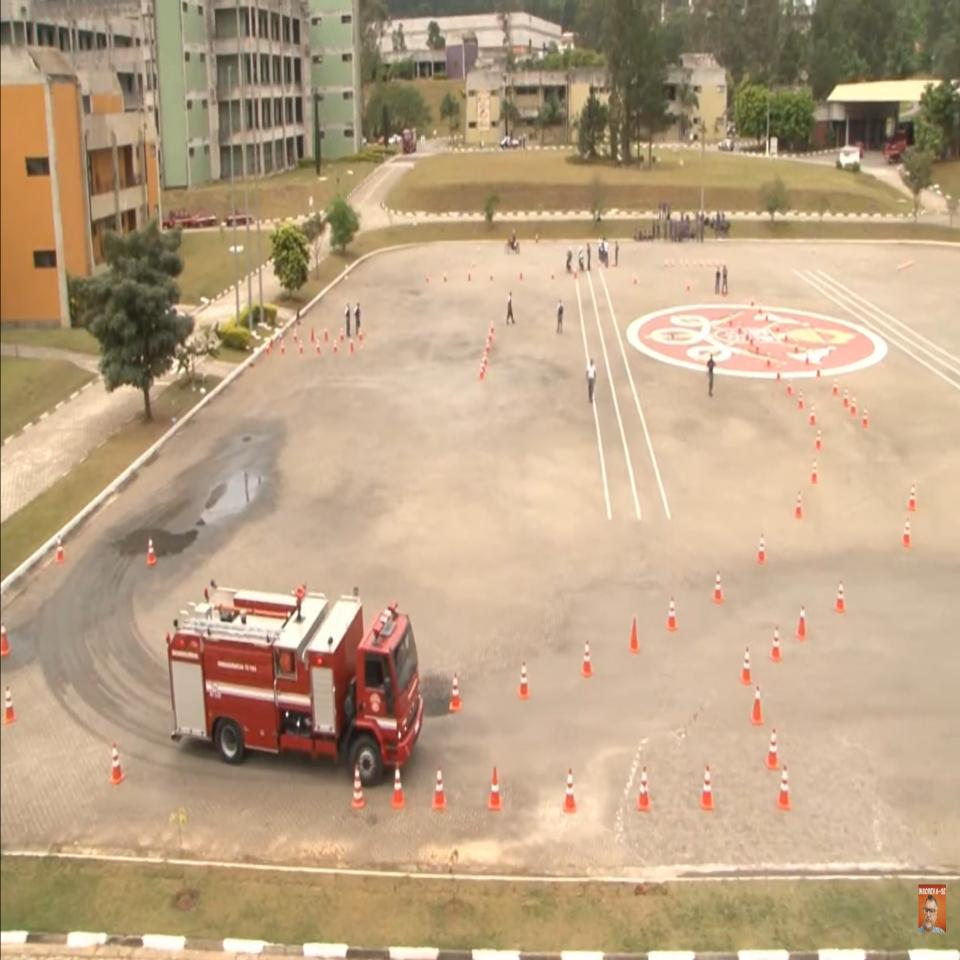viatura: (166, 580, 424, 784)
